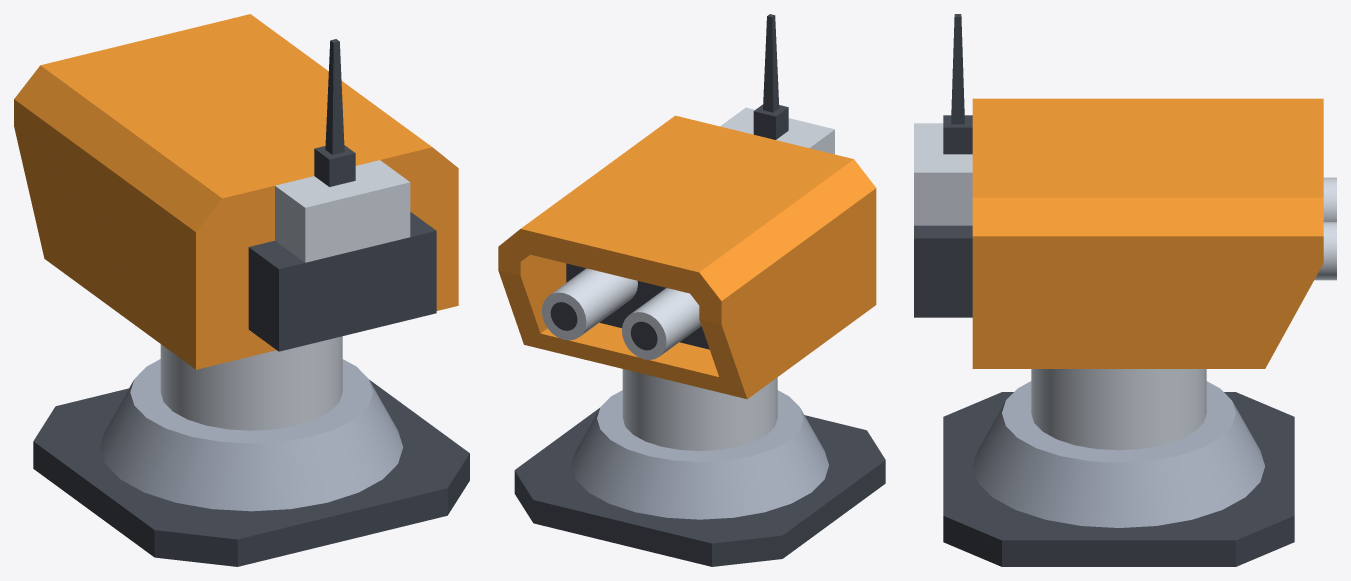
File: k-turret-single.glb
3 views of the same model, side by side, from view 1: azimuth 30°, elevation 25°; view 2: azimuth 150°, elevation 25°; view 3: azimuth 270°, elevation 25° (orthographic). The views are drawn at different scales.
Parts seen in each view (by area): view 1: turret, turret_single; view 2: turret, turret_single, Group (×2); view 3: turret, turret_single, Group (×2).
Boxes of the visible parts, x1,y1,x2,y2 form: turret: (14, 14, 458, 369); turret_single: (33, 336, 469, 566); turret: (498, 14, 876, 399); turret_single: (514, 369, 885, 566); Group (×2): (541, 268, 701, 359); turret: (914, 14, 1323, 368); turret_single: (943, 369, 1294, 566); Group (×2): (1314, 177, 1336, 280).
Bounding box in the file's own units: 0.6 × 0.9 × 0.7224.
